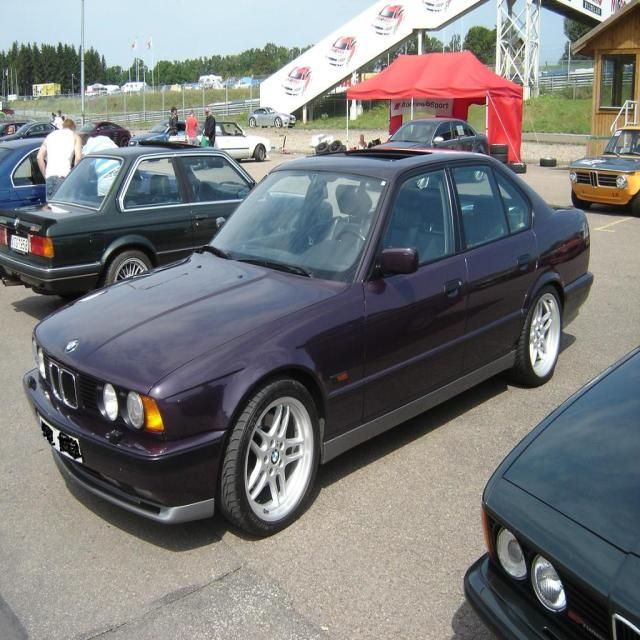car: (21, 139, 596, 534), (245, 103, 295, 127)
